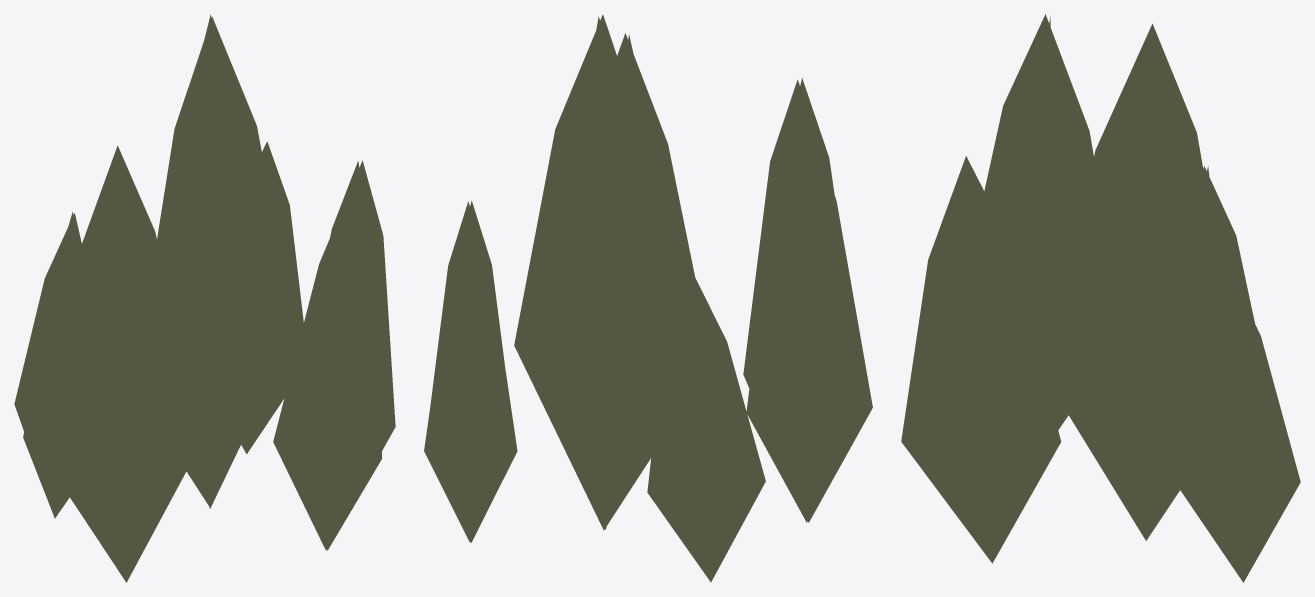
The model's file is SM_grass_02.fbx.
3 views of the same model, side by side, from view 1: azimuth 30°, elevation 25°; view 2: azimuth 150°, elevation 25°; view 3: azimuth 270°, elevation 25° (orthographic). The views are drawn at different scales.
Parts seen in each view (by area): view 1: SM_grass_02_LOD0; view 2: SM_grass_02_LOD0; view 3: SM_grass_02_LOD0.
Boxes of the visible parts, x1,y1,x2,y2 form: SM_grass_02_LOD0: (14, 14, 395, 582); SM_grass_02_LOD0: (424, 14, 872, 581); SM_grass_02_LOD0: (901, 14, 1300, 582).
Bounding box in the file's own units: 55.16 × 52.29 × 75.06.
